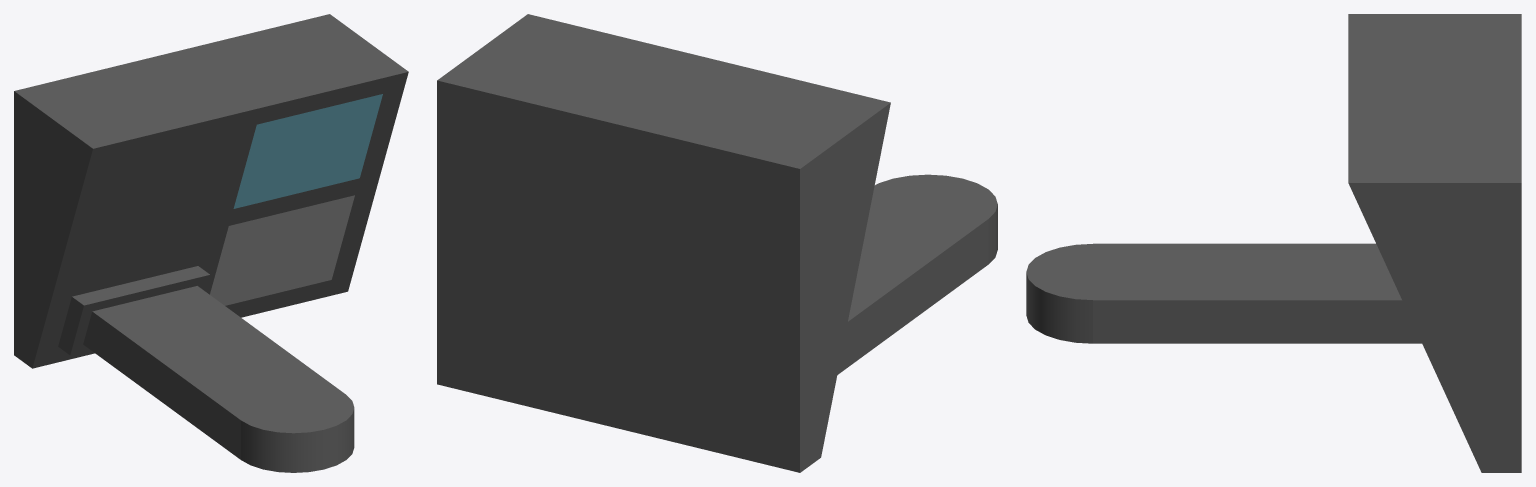
File: phone.dae
The picture shows the model from 3 angles, left to right: view 1: azimuth 30°, elevation 25°; view 2: azimuth 150°, elevation 25°; view 3: azimuth 270°, elevation 25°; orthographic projection. The views are drawn at different scales.
Parts seen in each view (by area): view 1: coords_ME_ID3_MA__96_96_96, coords_ME_ID17_MA__96_96_96, coords_ME_ID39_MA_material_27, coords_ME_ID59_MA___LightGray_, coords_ME_ID11_MA__96_96_96; view 2: coords_ME_ID3_MA__96_96_96, coords_ME_ID17_MA__96_96_96; view 3: coords_ME_ID3_MA__96_96_96, coords_ME_ID17_MA__96_96_96.
Boxes of the visible parts, bbox=[...] form: coords_ME_ID3_MA__96_96_96: bbox=[14, 14, 408, 368]; coords_ME_ID17_MA__96_96_96: bbox=[83, 286, 354, 472]; coords_ME_ID39_MA_material_27: bbox=[233, 94, 382, 208]; coords_ME_ID59_MA___LightGray_: bbox=[210, 195, 354, 305]; coords_ME_ID11_MA__96_96_96: bbox=[58, 266, 209, 355]; coords_ME_ID3_MA__96_96_96: bbox=[437, 14, 890, 472]; coords_ME_ID17_MA__96_96_96: bbox=[837, 174, 997, 374]; coords_ME_ID3_MA__96_96_96: bbox=[1348, 14, 1521, 472]; coords_ME_ID17_MA__96_96_96: bbox=[1026, 243, 1421, 343].
Size of the model in its own units: 1.65 by 1.32 by 2.05.
